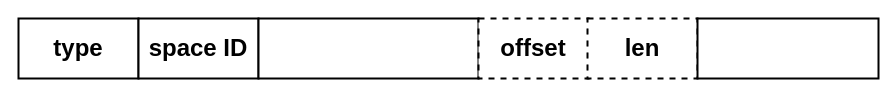
Image size: 896x96. Some labels were removed from this diagram. The box of each missing label's shape, as (x1, y1, x2, y2) in pixels:
data: (696, 17, 879, 79)
page number: (257, 17, 479, 79)
